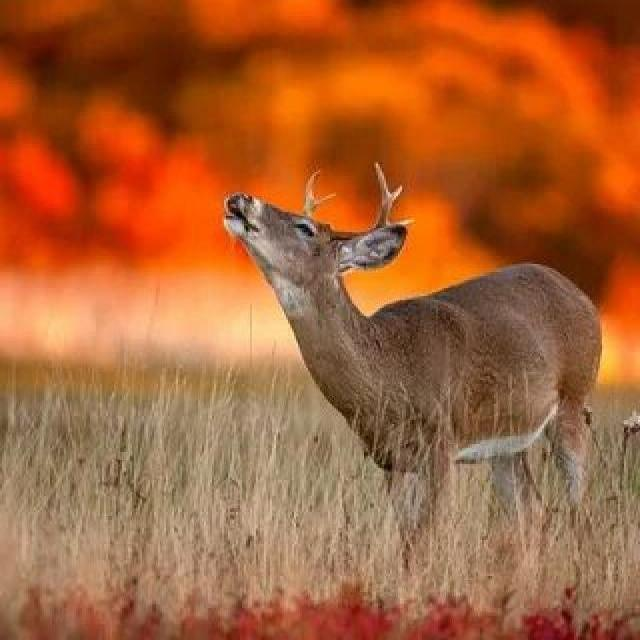deer: (170, 108, 640, 540)
